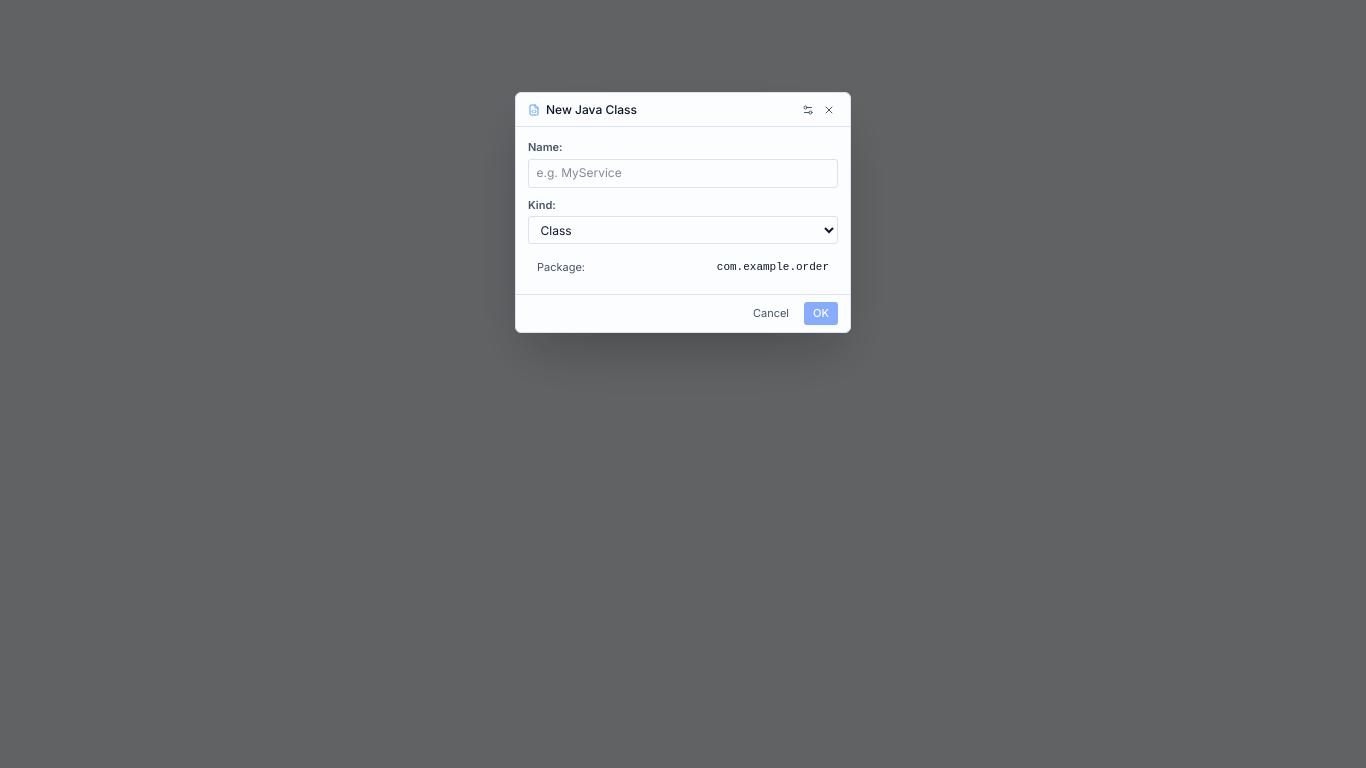
Test: ED-TEMPLATE-001: NewJavaClassDialog › shows error and disables submit on invalid identifier (ED-TEMPLATE-001-A2)
The width and height of the screenshot is (1366, 768).
Type "class" into the field with test id "new-java-class-name-input".
click(683, 173); type("class")  # box [528,159,838,188]
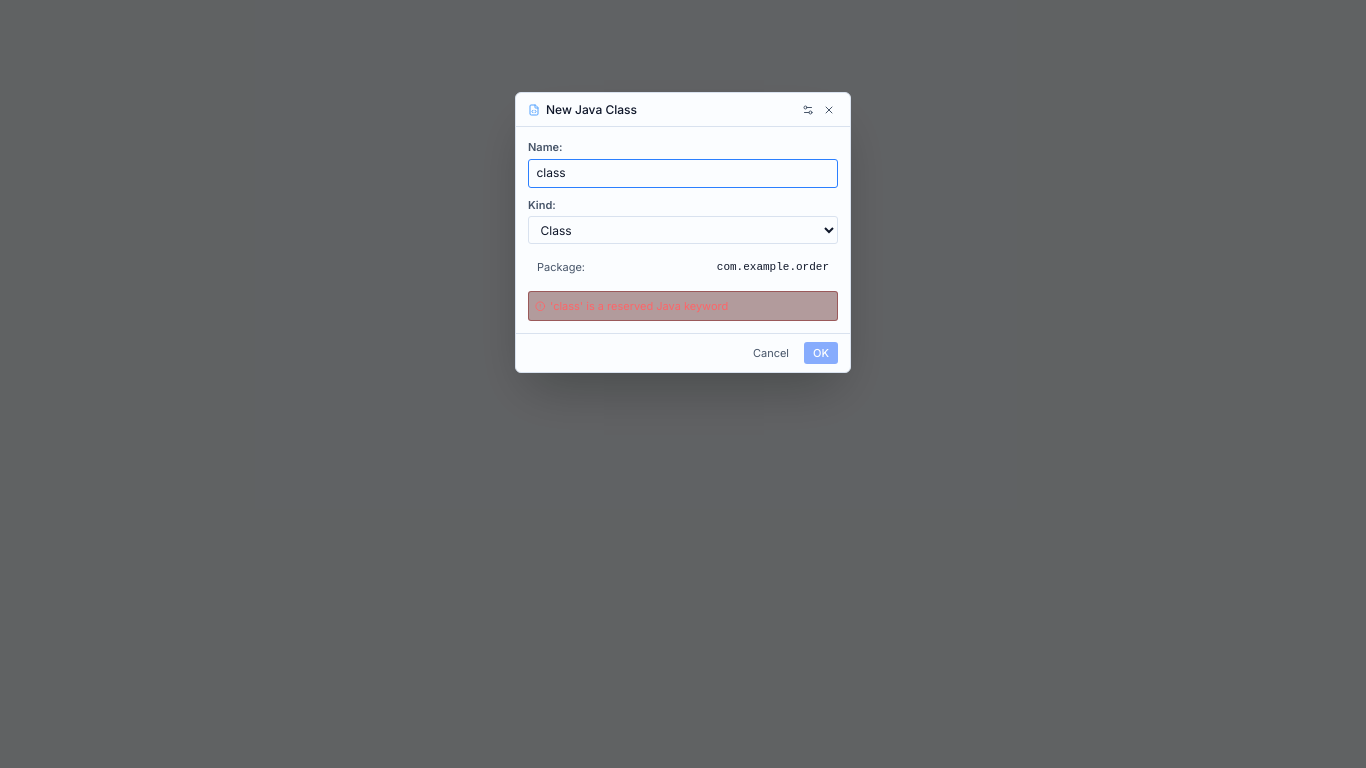
Expected: the button with test id "new-java-class-submit" is disabled, [804,342,838,364]
Expected: the element with test id "new-java-class-error" reads "'class' is a reserved Java keyword", [550,299,728,313]
